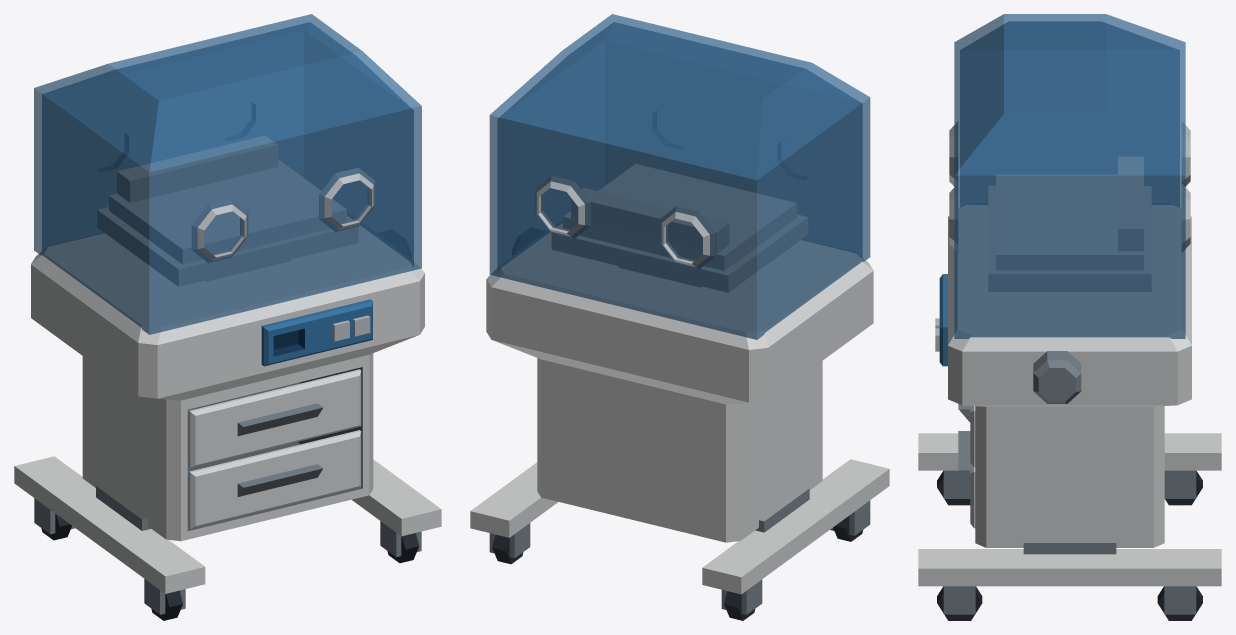
The model's file is neonatal-incubator-28de34.glb.
The picture shows the model from 3 angles, left to right: view 1: azimuth 30°, elevation 25°; view 2: azimuth 150°, elevation 25°; view 3: azimuth 270°, elevation 25°; orthographic projection. The views are drawn at different scales.
Visible parts, largest first — view 1: canopy, neonatal-incubator, bassinet, drawer-2, drawer-1; view 2: canopy, neonatal-incubator, bassinet; view 3: neonatal-incubator, canopy, bassinet, drawer-2, drawer-1.
Boxes of the visible parts, x1,y1,x2,y2 form: canopy: (34, 14, 421, 334); neonatal-incubator: (14, 216, 441, 620); bassinet: (97, 136, 358, 286); drawer-2: (187, 430, 361, 528); drawer-1: (187, 369, 361, 467); canopy: (489, 14, 870, 339); neonatal-incubator: (470, 223, 889, 620); bassinet: (552, 164, 807, 292); neonatal-incubator: (918, 205, 1221, 620); canopy: (949, 14, 1190, 338); bassinet: (988, 157, 1151, 291); drawer-2: (958, 431, 975, 528); drawer-1: (958, 404, 975, 467).
Bounding box in the file's own units: 0.858 × 1.3 × 0.72.
